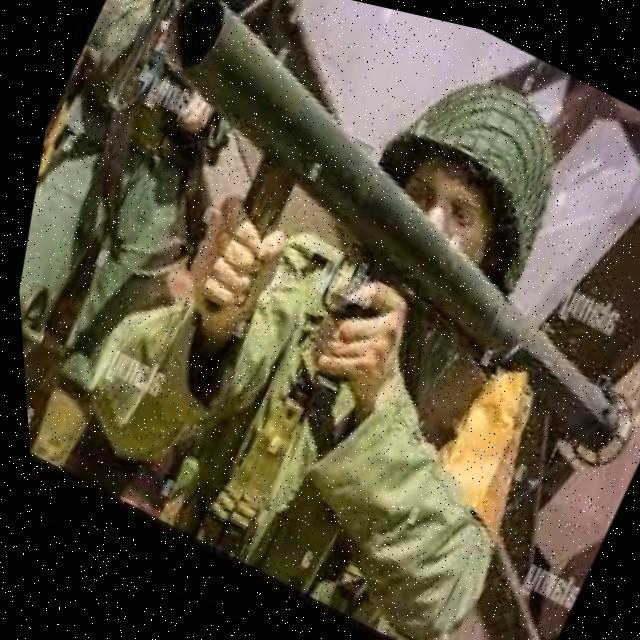rocket: (40, 0, 640, 479)
